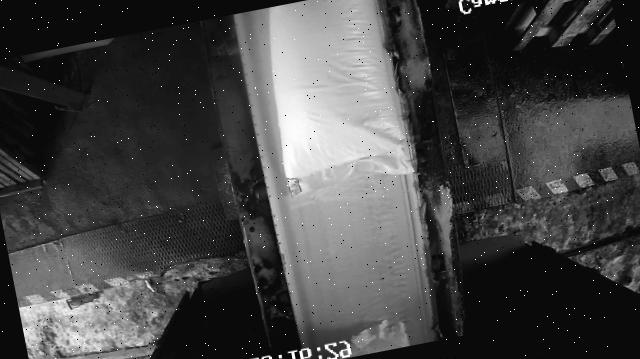bag: (253, 0, 415, 197), (323, 315, 419, 359)
